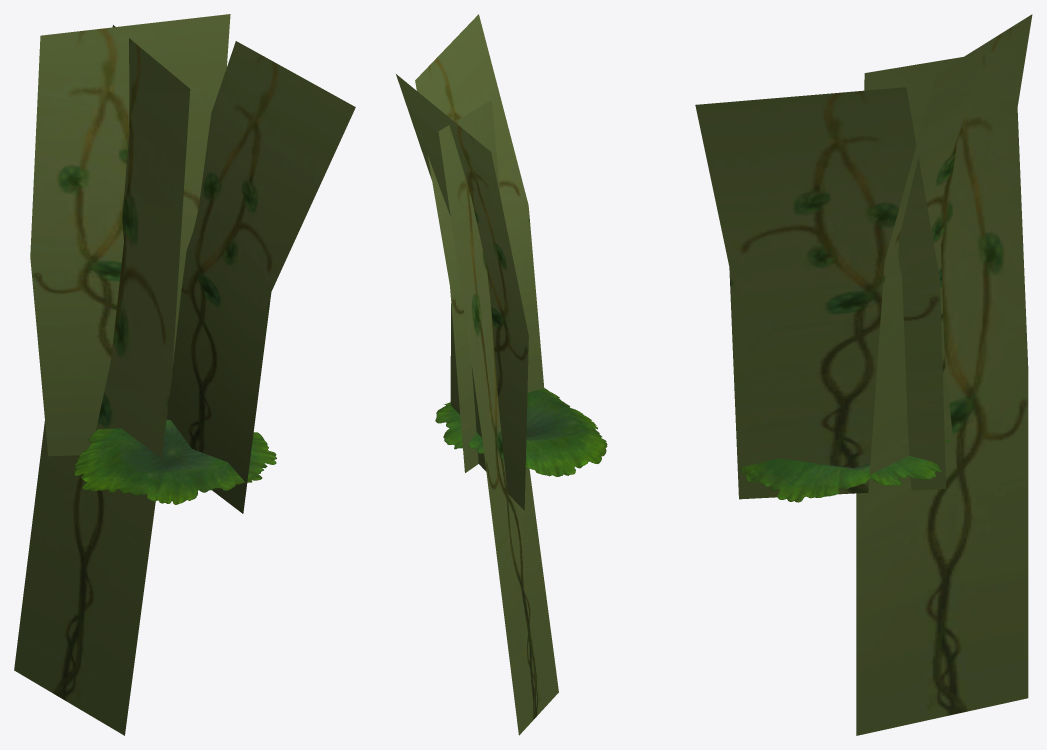
File: environment_Tree_heye_003_e.FBX
3 renders of one model, left to right at view 1: azimuth 30°, elevation 25°; view 2: azimuth 150°, elevation 25°; view 3: azimuth 270°, elevation 25°, orthographic. The views are drawn at different scales.
Visible parts, largest first — view 1: environment_Tree_heye_003_b, environment_Tree_heye_003_a; view 2: environment_Tree_heye_003_b, environment_Tree_heye_003_a; view 3: environment_Tree_heye_003_b, environment_Tree_heye_003_a.
Part boxes in pixels (x1=…): environment_Tree_heye_003_b: x1=14, y1=14, x2=355, y2=735; environment_Tree_heye_003_a: x1=74, y1=419, x2=276, y2=504; environment_Tree_heye_003_b: x1=396, y1=14, x2=558, y2=735; environment_Tree_heye_003_a: x1=435, y1=388, x2=607, y2=476; environment_Tree_heye_003_b: x1=695, y1=14, x2=1032, y2=735; environment_Tree_heye_003_a: x1=741, y1=439, x2=951, y2=502.
Size of the model in its own units: 86.28 by 214 by 91.99.
Materials: 2 (2 with a texture image).
